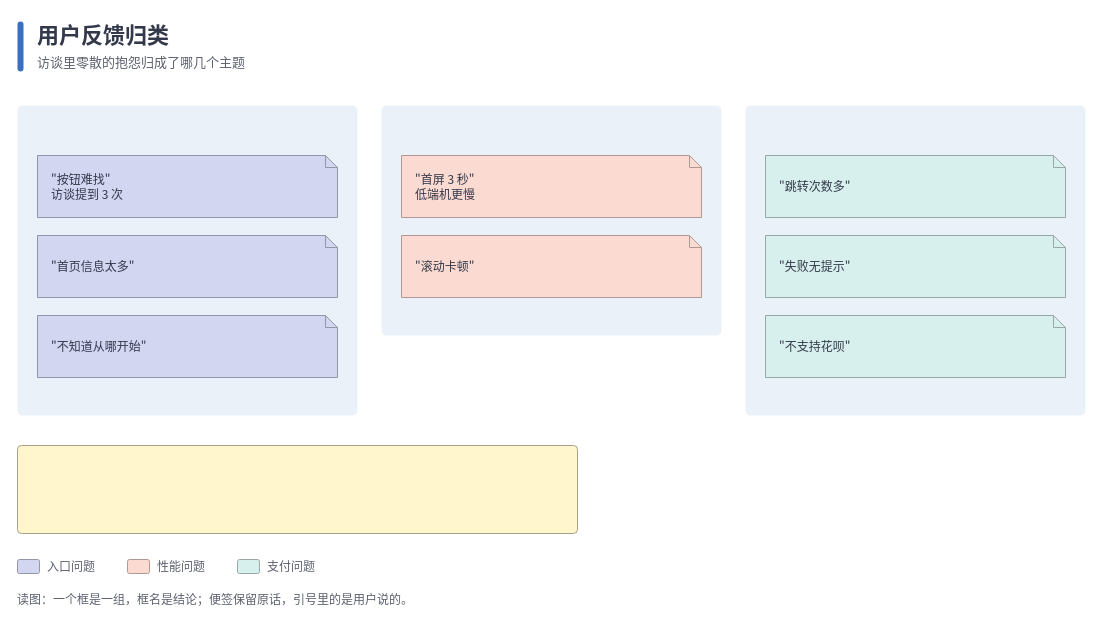
This 1103x626 diagram has some shape labels left out. Here are the shapes that lost their labels. From the top down, the box of each, then its label:
(381, 105, 721, 335): 页面慢
(17, 105, 357, 415): 新用户找不到入口
(745, 105, 1085, 415): 支付体验差
(16, 444, 578, 534): 来源 12 位用户的访谈记录，共 24 张便签，图里只放归入这三组的 组名是归纳出的结论，便签是原话
